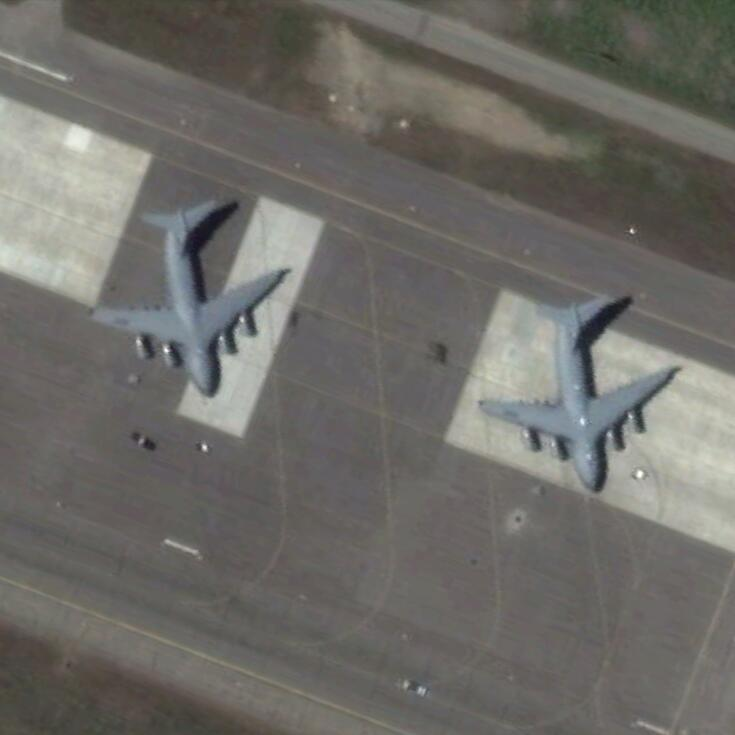A3: (478, 288, 682, 496), (90, 200, 288, 398)
